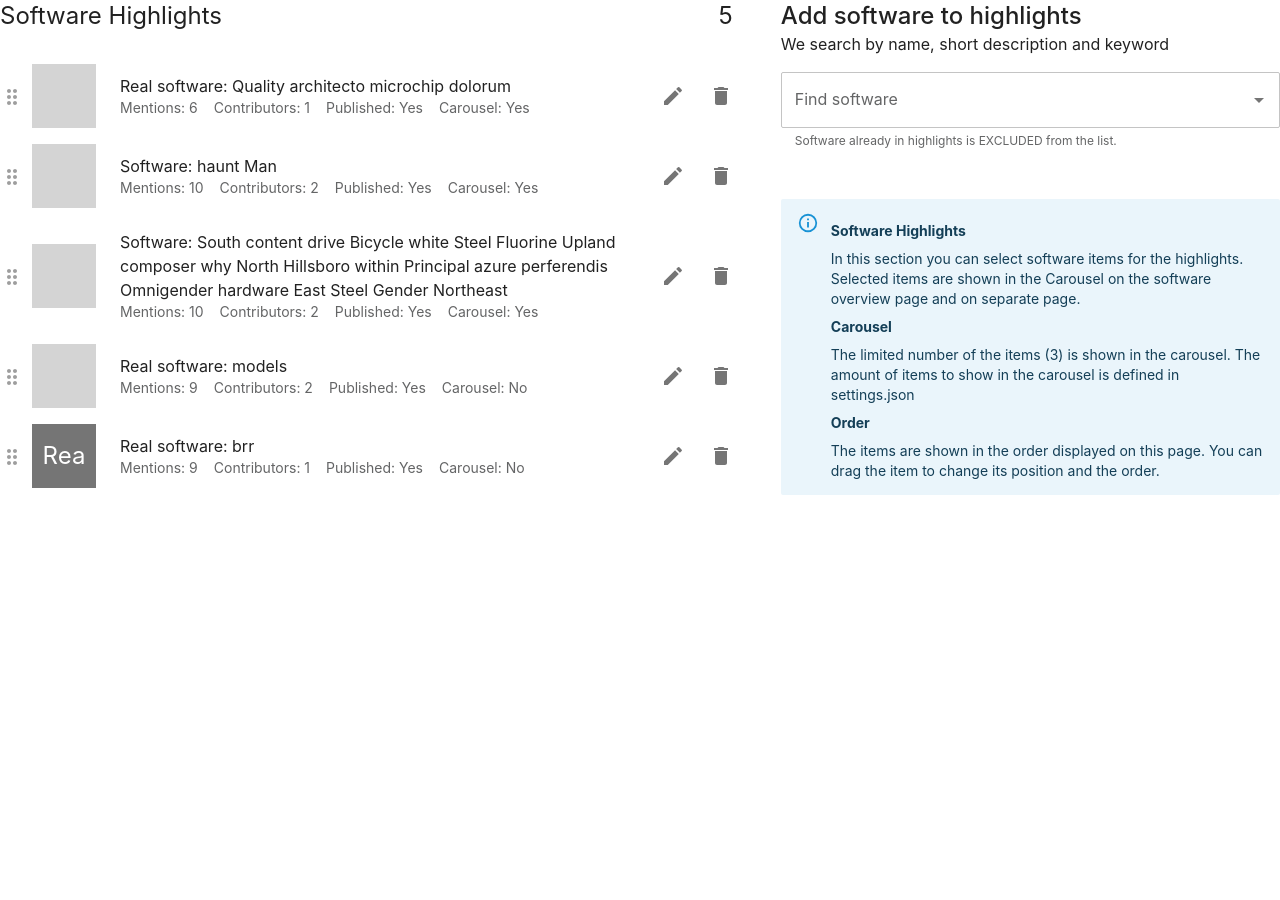
Test: components/admin/software-highlights/index.tsx › can remove software from highlight
Expected: the number of buttons with test id "admin-highlight-item" is 5, [0,56,749,136]; [0,136,749,216]; [0,216,749,336]; [0,336,749,416]; [0,416,749,496]
Click the 1st button named "delete" at (721, 96), box [701,76,741,116]
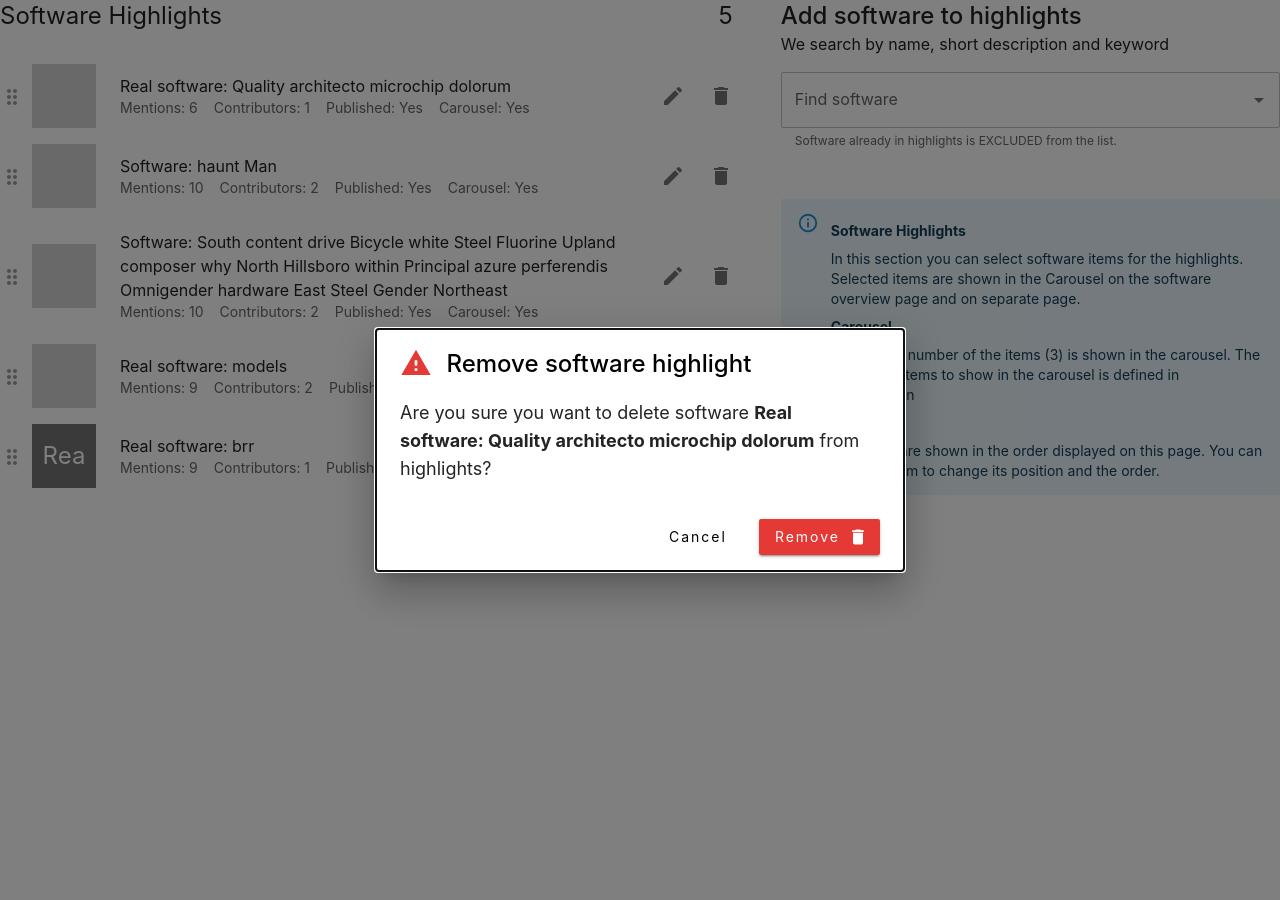
Note: confirm remove
Click the button "Remove" at (819, 537), box [759,519,880,556]
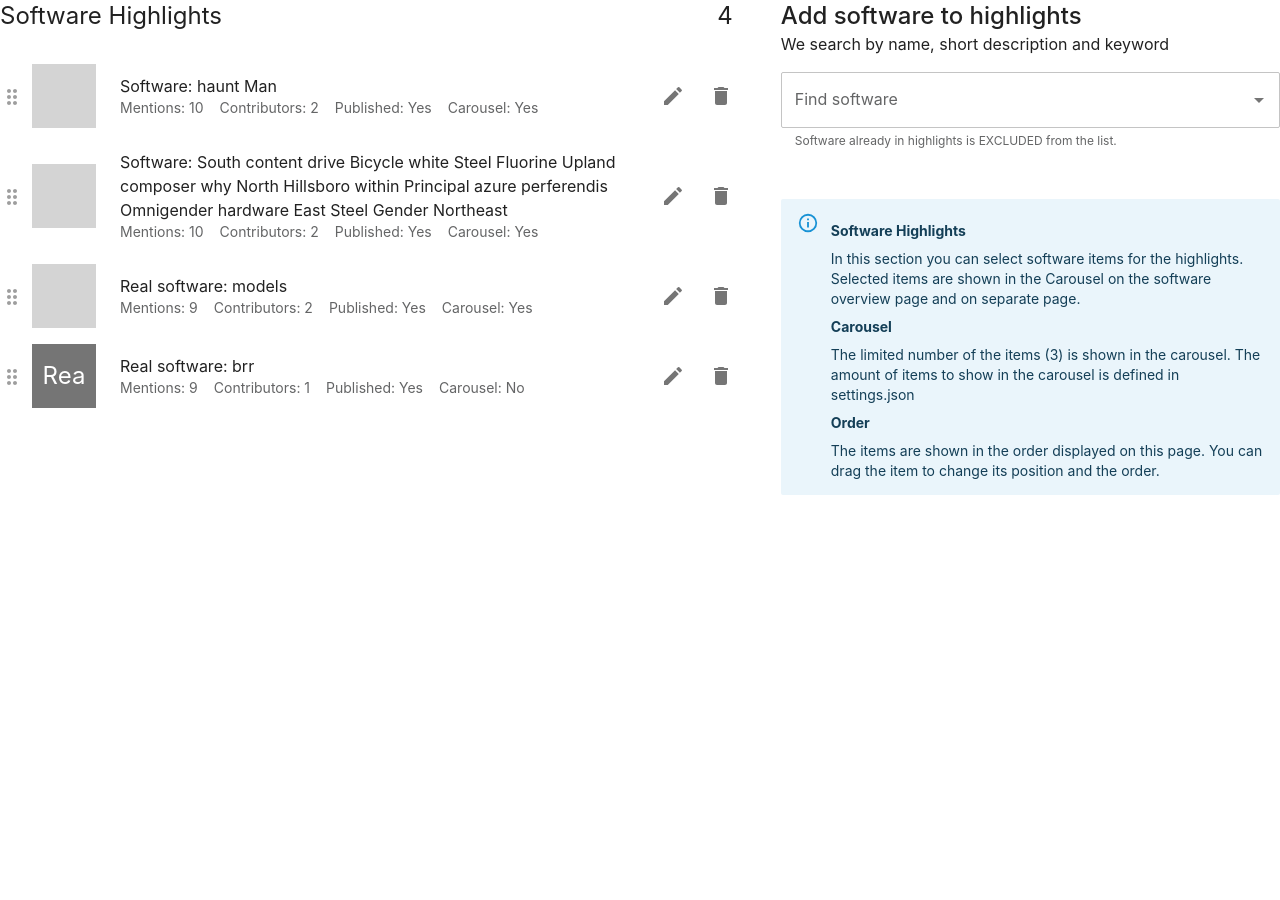
Result: the dialog is gone
